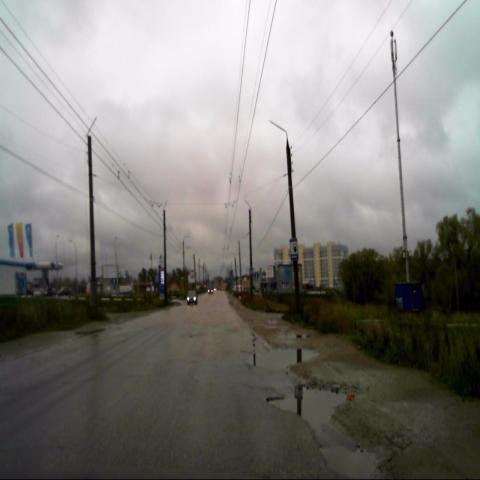7_3: (290, 237, 298, 260)
